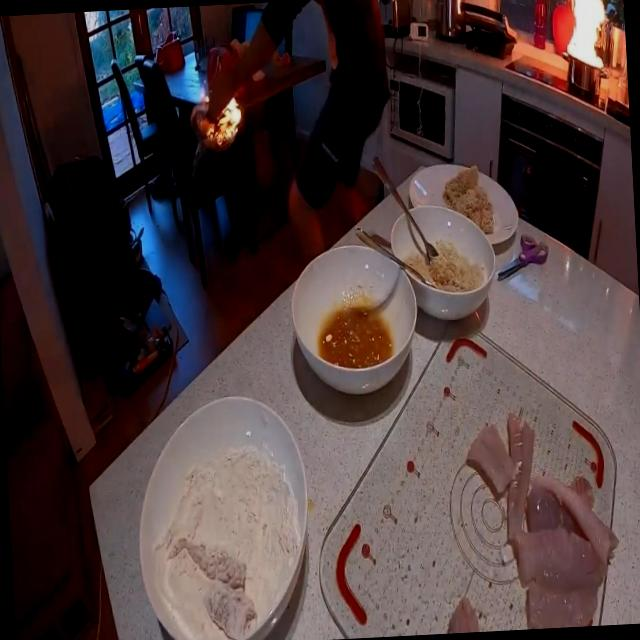fire: (553, 0, 619, 107)
